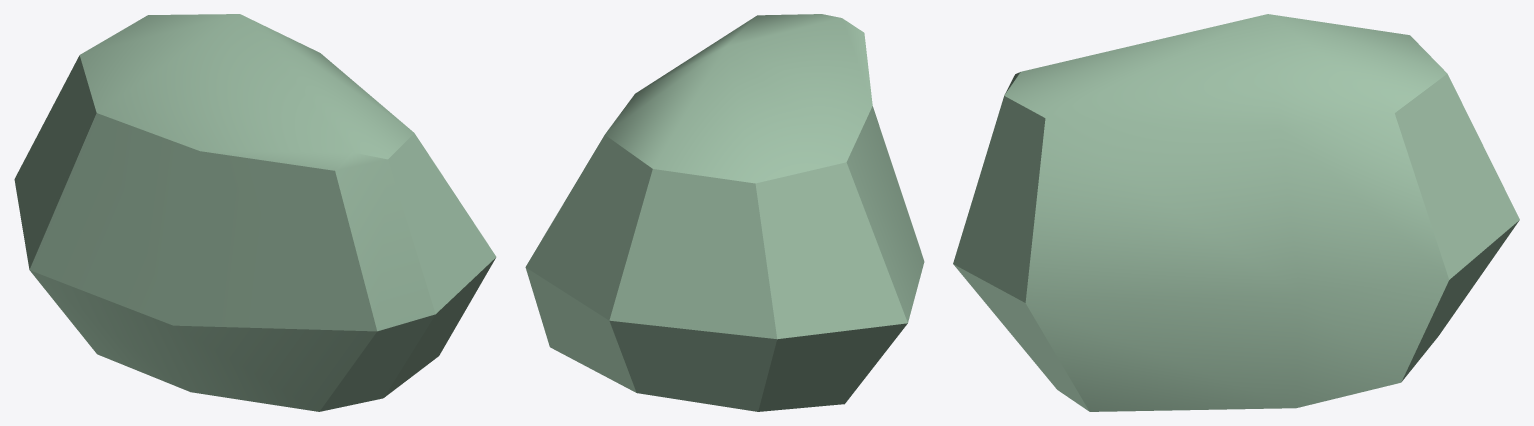
File: BushB.fbx
3 renders of one model, left to right at view 1: azimuth 30°, elevation 25°; view 2: azimuth 150°, elevation 25°; view 3: azimuth 270°, elevation 25°, orthographic. The views are drawn at different scales.
Parts seen in each view (by area): view 1: Tree_New; view 2: Tree_New; view 3: Tree_New.
Boxes of the visible parts, x1=… form: Tree_New: x1=14, y1=14, x2=496, y2=411; Tree_New: x1=525, y1=14, x2=924, y2=411; Tree_New: x1=953, y1=14, x2=1519, y2=411.
Bounding box in the file's own units: 101 × 89.69 × 129.
